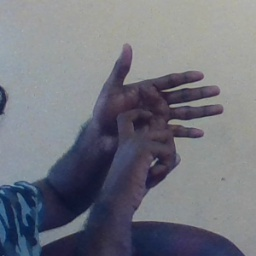R: (79, 35, 228, 197)
